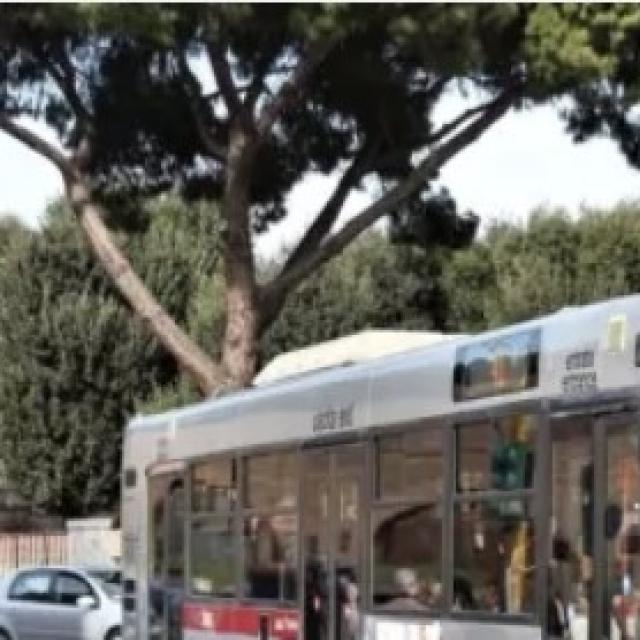bus: (117, 283, 640, 640)
car: (0, 560, 129, 640)
